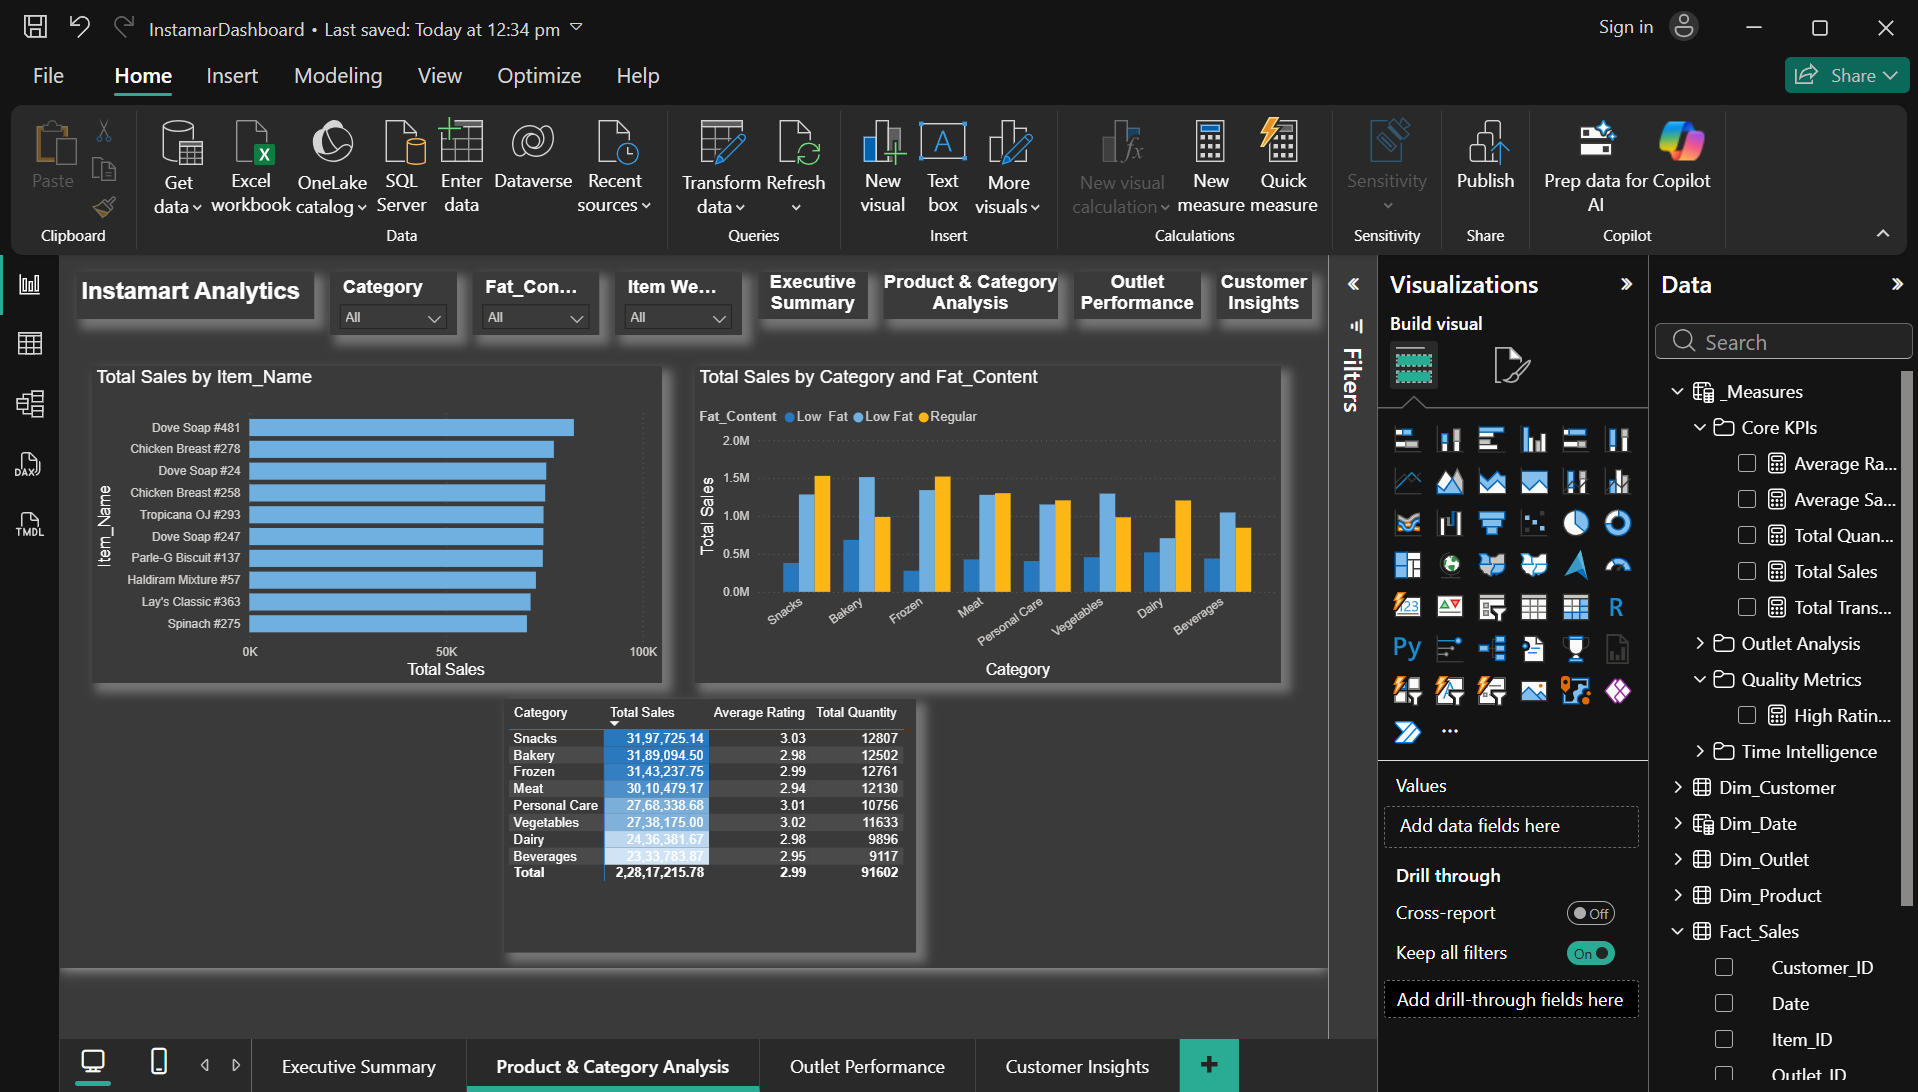

The dashboard page shown, as its layout file describes it:
{"tool":"powerbi","page":{"name":"Product & Category Analysis","canvas":[1280,720],"ordinal":1},"visuals":[{"type":"textbox","box":[16,0,240,48],"z":0},{"type":"actionButton","title":"Executive Summary","box":[800,0,144,48],"z":1000},{"type":"actionButton","title":"Product & Category Analysis","box":[960,0,192,48],"z":2000},{"type":"actionButton","title":"Outlet Performance","box":[1168,0,112,48],"z":3000},{"type":"slicer","fields":{"Values":["Dim_Product.Category"]},"box":[304,0,128,64],"z":4000},{"type":"slicer","fields":{"Values":["Dim_Product.Fat_Content"]},"box":[464,0,128,64],"z":5000},{"type":"slicer","fields":{"Values":["Dim_Product.Item Weight Band"]},"box":[624,0,128,64],"z":6000},{"type":"clusteredBarChart","fields":{"Category":["Dim_Product.Item_Name"],"Y":["_Measures.Total Sales"]},"box":[48,96,512,352],"z":7000},{"type":"clusteredColumnChart","fields":{"Series":["Dim_Product.Fat_Content"],"Category":["Dim_Product.Category"],"Y":["_Measures.Total Sales"]},"box":[656,160,512,272],"z":8000},{"type":"pivotTable","fields":{"Rows":["Dim_Product.Category"],"Values":["_Measures.Total Sales","_Measures.Average Rating","_Measures.Total Quantity"]},"box":[48,480,416,240],"z":9000},{"type":"actionButton","title":"Customer Insights ","box":[992,64,128,48],"z":10000}]}

Visuals, with their boxes on the page's 1280x720 design canvas (x1, y1, x2, y2). These are canvas units, not pixel positions in the 1918x1092 screenshot, which may show the page scaled, cropped or inside an application window:
textbox: left=16, top=0, right=256, bottom=48
"Executive Summary" actionButton: left=800, top=0, right=944, bottom=48
"Product & Category Analysis" actionButton: left=960, top=0, right=1152, bottom=48
"Outlet Performance" actionButton: left=1168, top=0, right=1280, bottom=48
slicer - Dim_Product.Category: left=304, top=0, right=432, bottom=64
slicer - Dim_Product.Fat_Content: left=464, top=0, right=592, bottom=64
slicer - Dim_Product.Item Weight Band: left=624, top=0, right=752, bottom=64
clusteredBarChart - Dim_Product.Item_Name x _Measures.Total Sales: left=48, top=96, right=560, bottom=448
clusteredColumnChart - Dim_Product.Fat_Content x Dim_Product.Category: left=656, top=160, right=1168, bottom=432
pivotTable - Dim_Product.Category x _Measures.Total Sales: left=48, top=480, right=464, bottom=720
"Customer Insights " actionButton: left=992, top=64, right=1120, bottom=112
